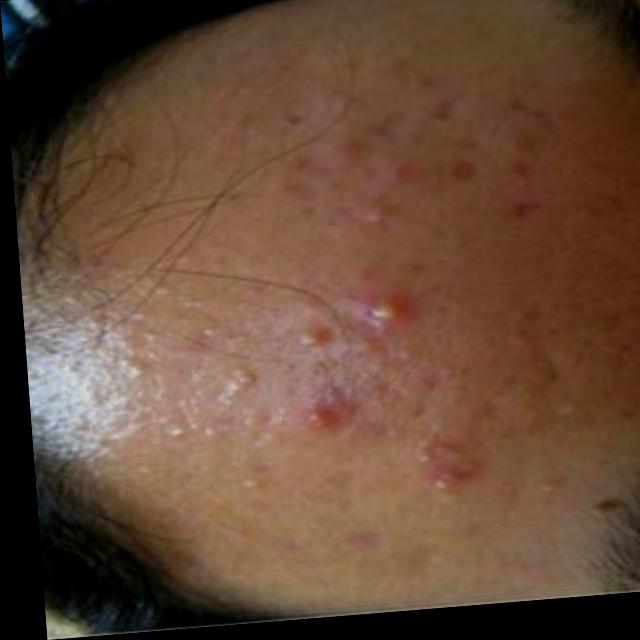9: (356, 281, 432, 351), (285, 389, 337, 462)
blackheads: (417, 145, 514, 189), (412, 454, 512, 492), (483, 197, 567, 238), (422, 89, 487, 138)
